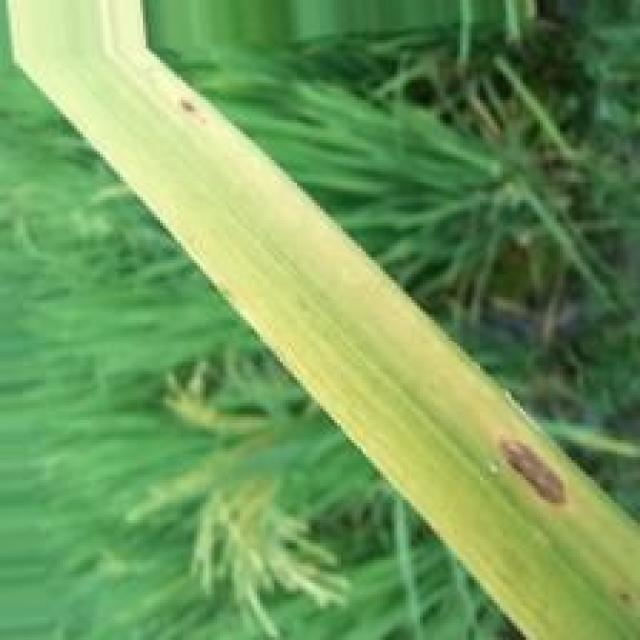Brown_Spot: (499, 434, 573, 510), (176, 97, 200, 117)
